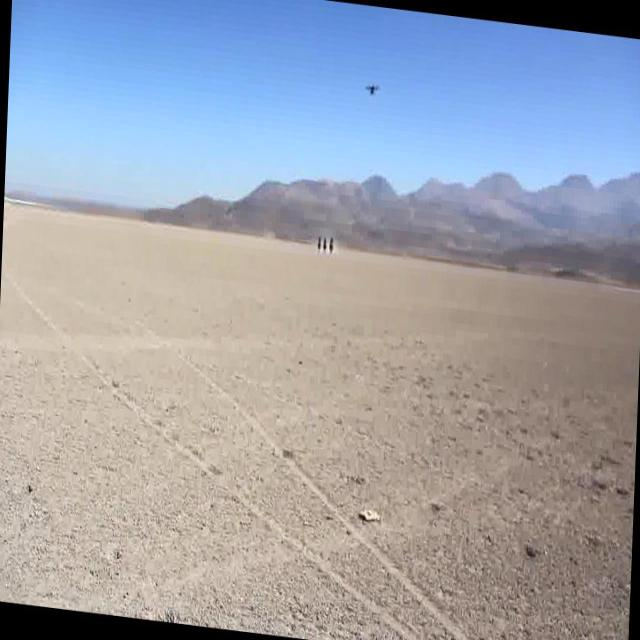drone: (361, 76, 381, 106)
